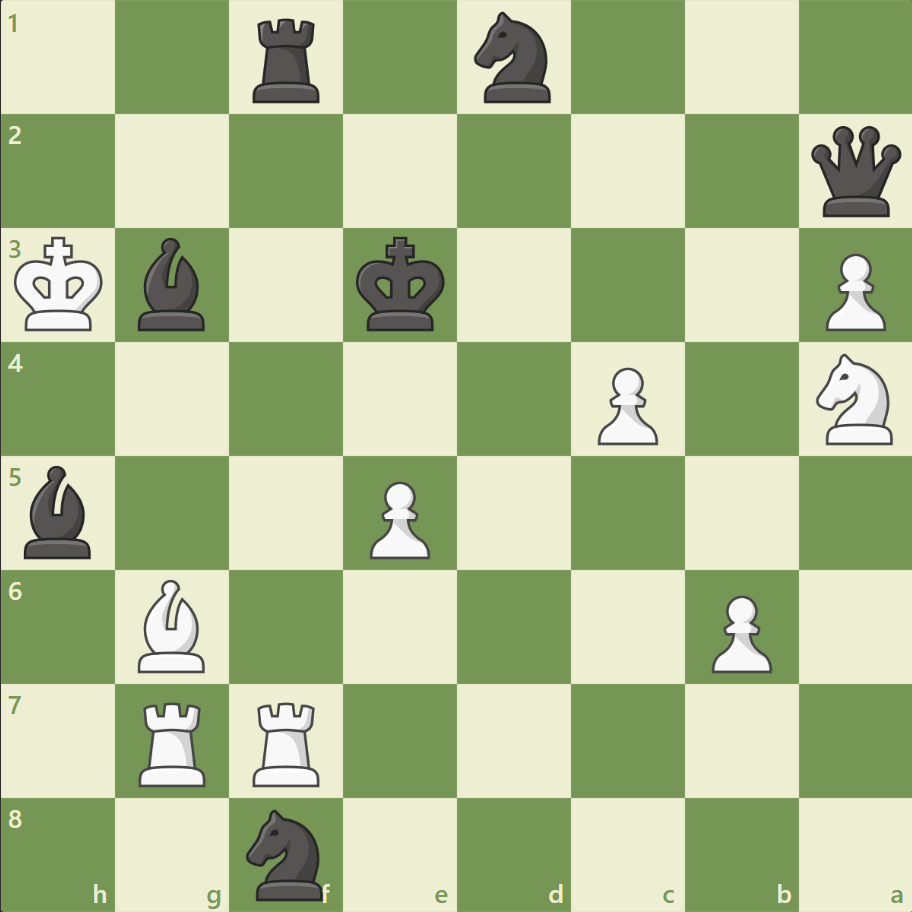B: (131, 574, 215, 676)
K: (11, 231, 111, 339)
N: (806, 348, 903, 450)
P: (701, 586, 776, 677), (361, 473, 435, 564), (588, 359, 662, 450), (815, 246, 889, 337)
R: (246, 693, 329, 790), (133, 693, 215, 790)
b: (17, 460, 101, 563), (131, 233, 215, 336)
k: (351, 231, 451, 339)
n: (465, 7, 562, 110), (238, 802, 335, 904)
q: (805, 122, 904, 222)
r: (246, 12, 329, 109)
